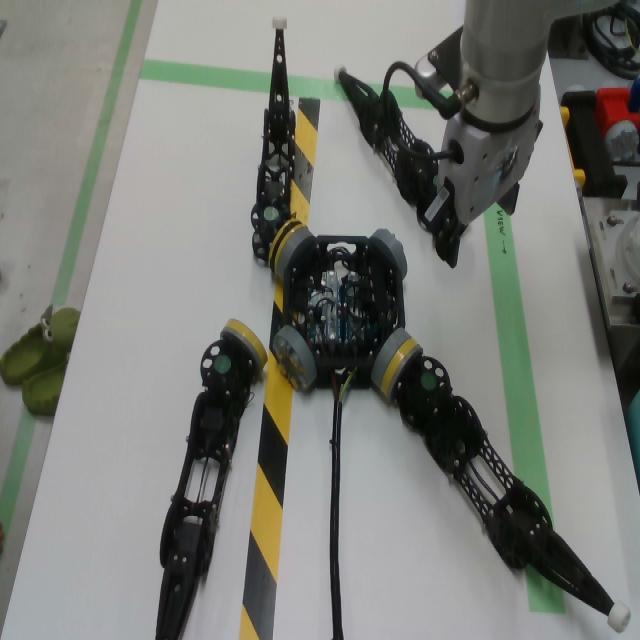body: (283, 236, 405, 391)
body_connector: (273, 325, 317, 391), (371, 328, 412, 389), (276, 227, 315, 279), (369, 229, 408, 280)
gripper: (424, 84, 539, 269)
leg: (382, 337, 631, 632), (155, 317, 268, 640), (333, 63, 438, 233), (250, 17, 304, 273)
leg_connector: (220, 319, 268, 371), (381, 339, 423, 397), (268, 219, 305, 273)
leg_marker: (214, 355, 231, 373), (421, 373, 435, 389), (264, 207, 278, 221)
